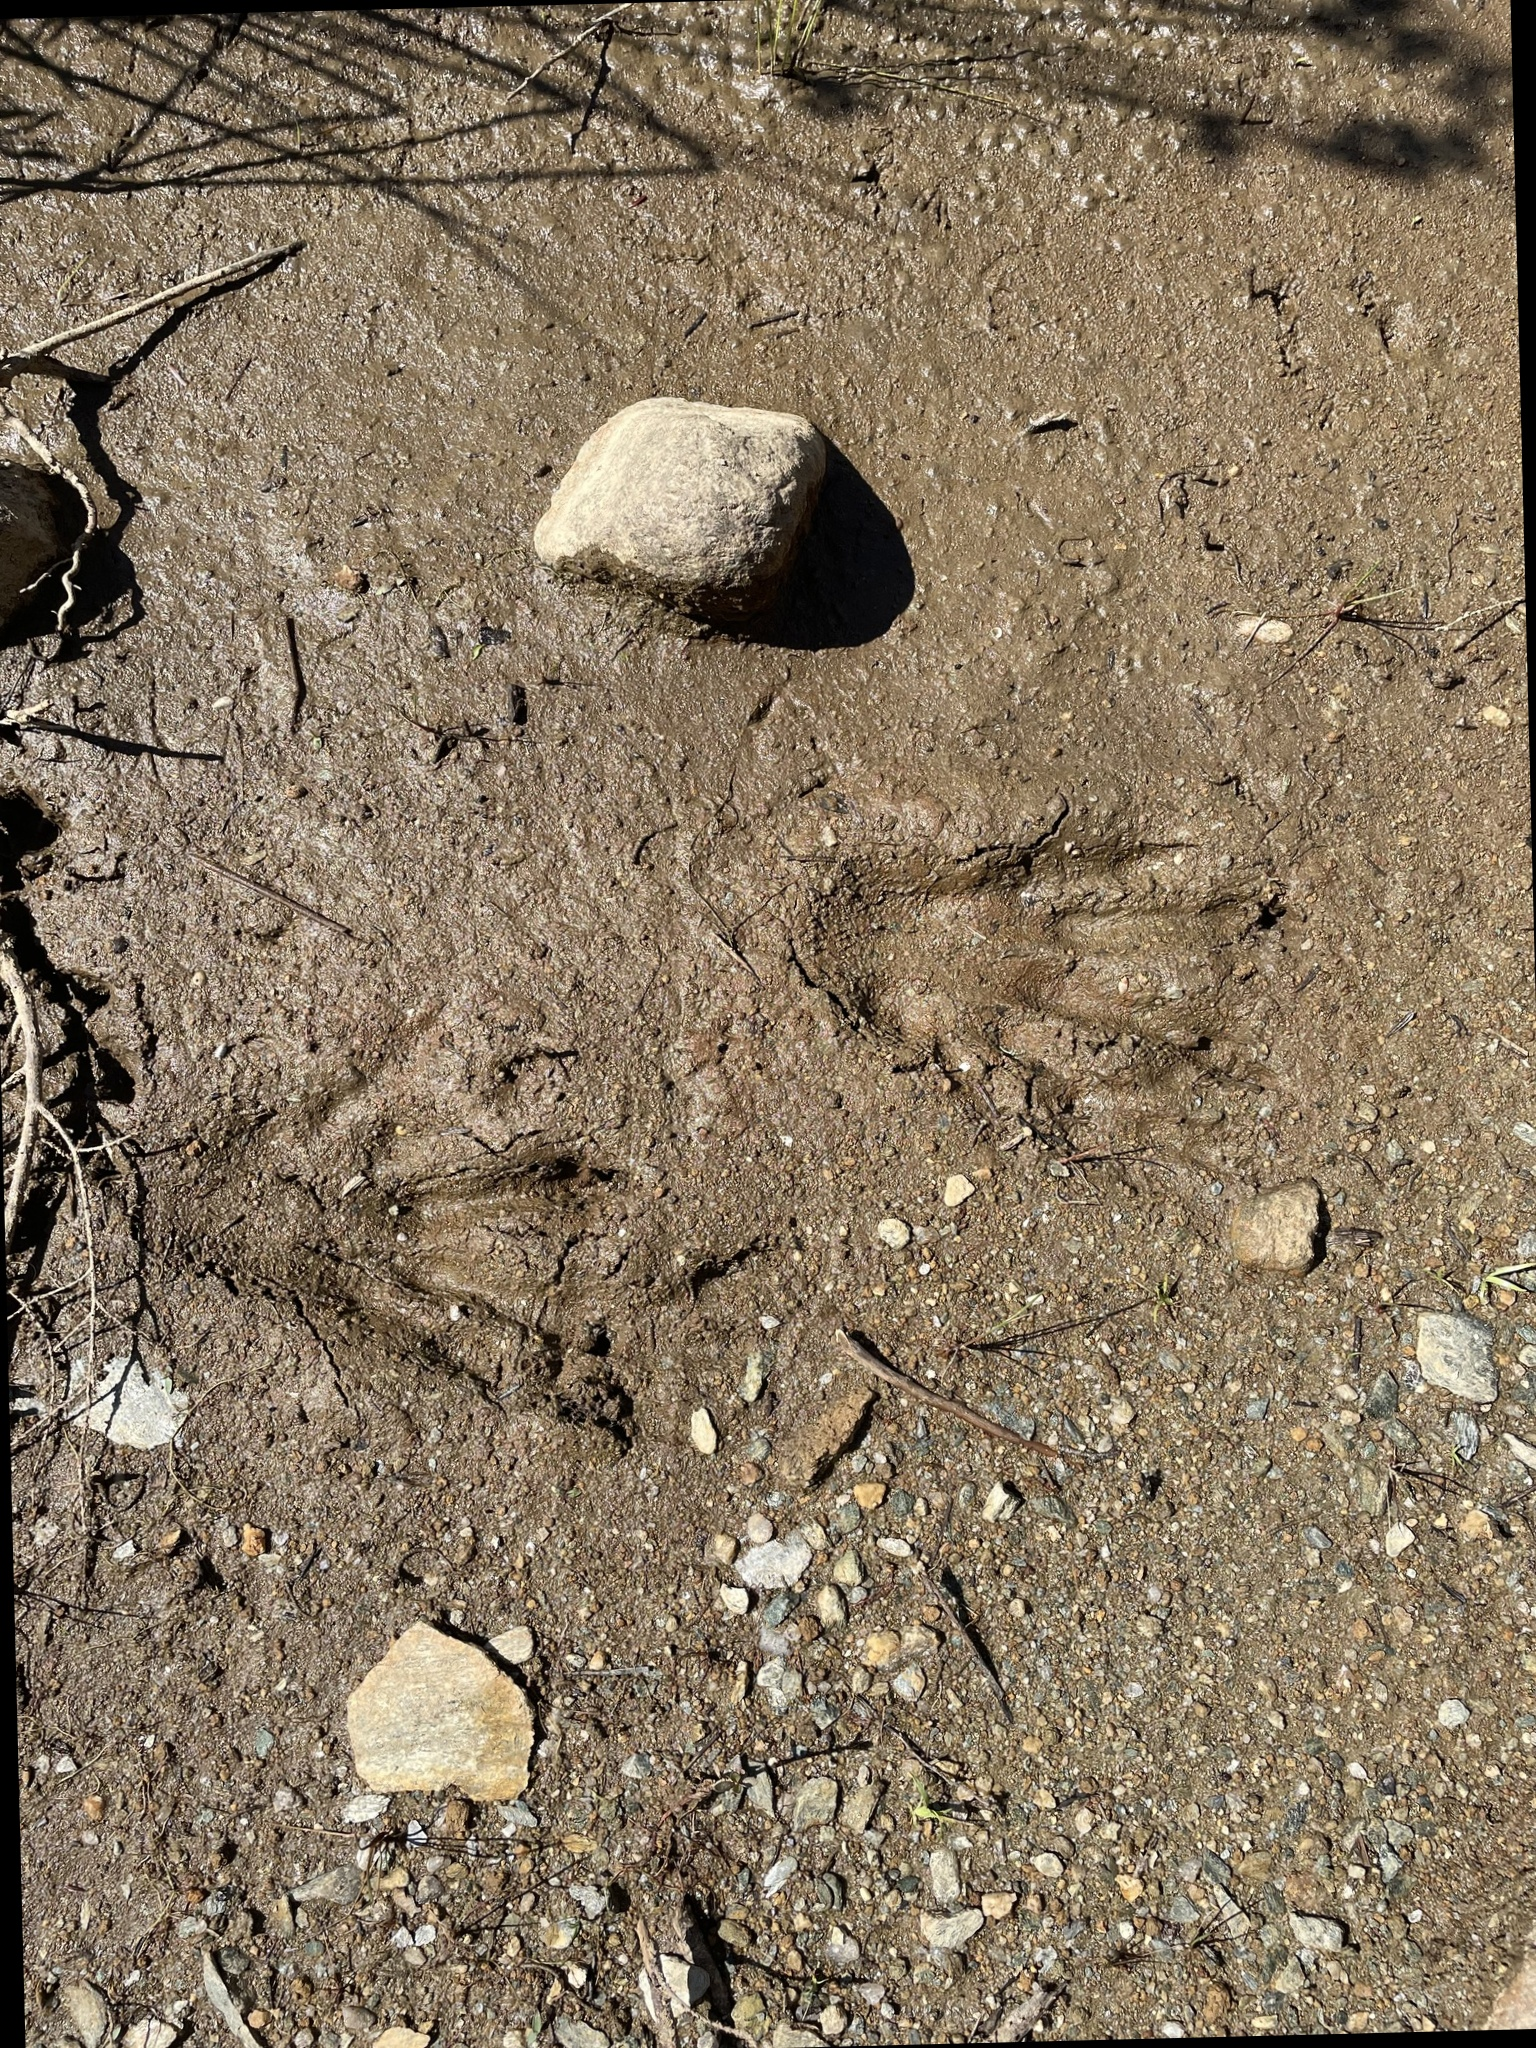beaver: (118, 1034, 741, 1540), (733, 784, 1363, 1275)
